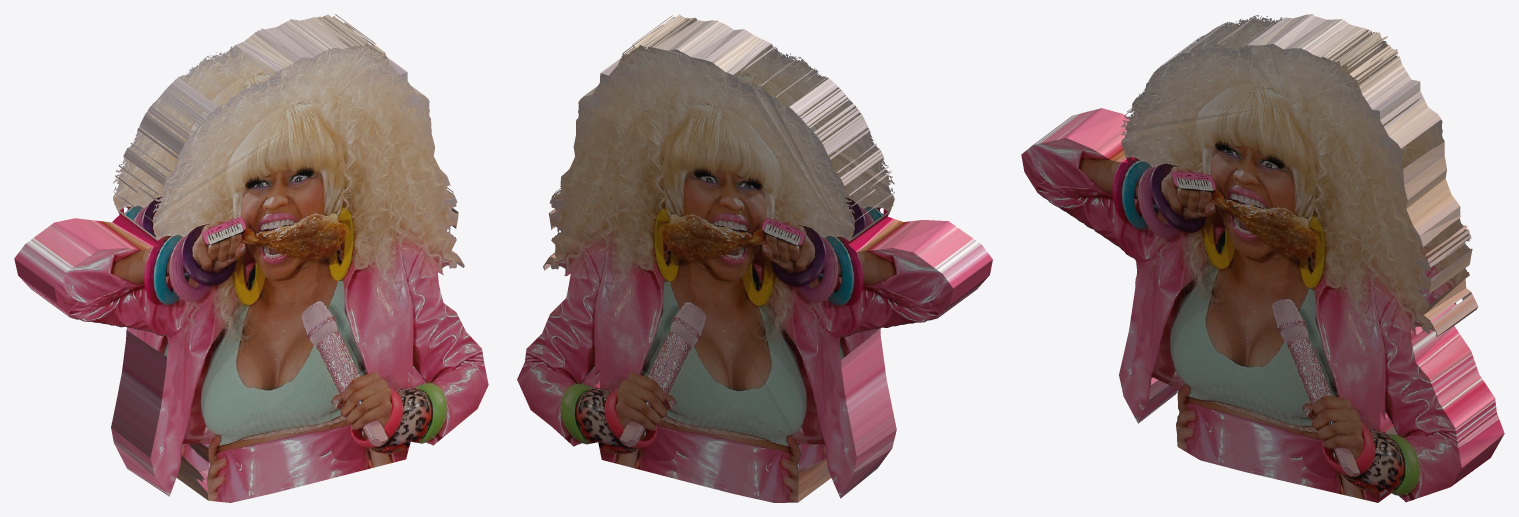
The model's file is Nicki.fbx.
3 renders of one model, left to right at view 1: azimuth 30°, elevation 25°; view 2: azimuth 150°, elevation 25°; view 3: azimuth 330°, elevation 25°, orthographic.
Parts seen in each view (by area): view 1: nicki; view 2: nicki; view 3: nicki.
Boxes of the visible parts, bbox=[...] form: nicki: bbox=[14, 14, 488, 502]; nicki: bbox=[517, 14, 992, 502]; nicki: bbox=[1021, 14, 1504, 502].
Size of the model in its own units: 139 by 131 by 22.14.
Materials: 1 (1 with a texture image).
